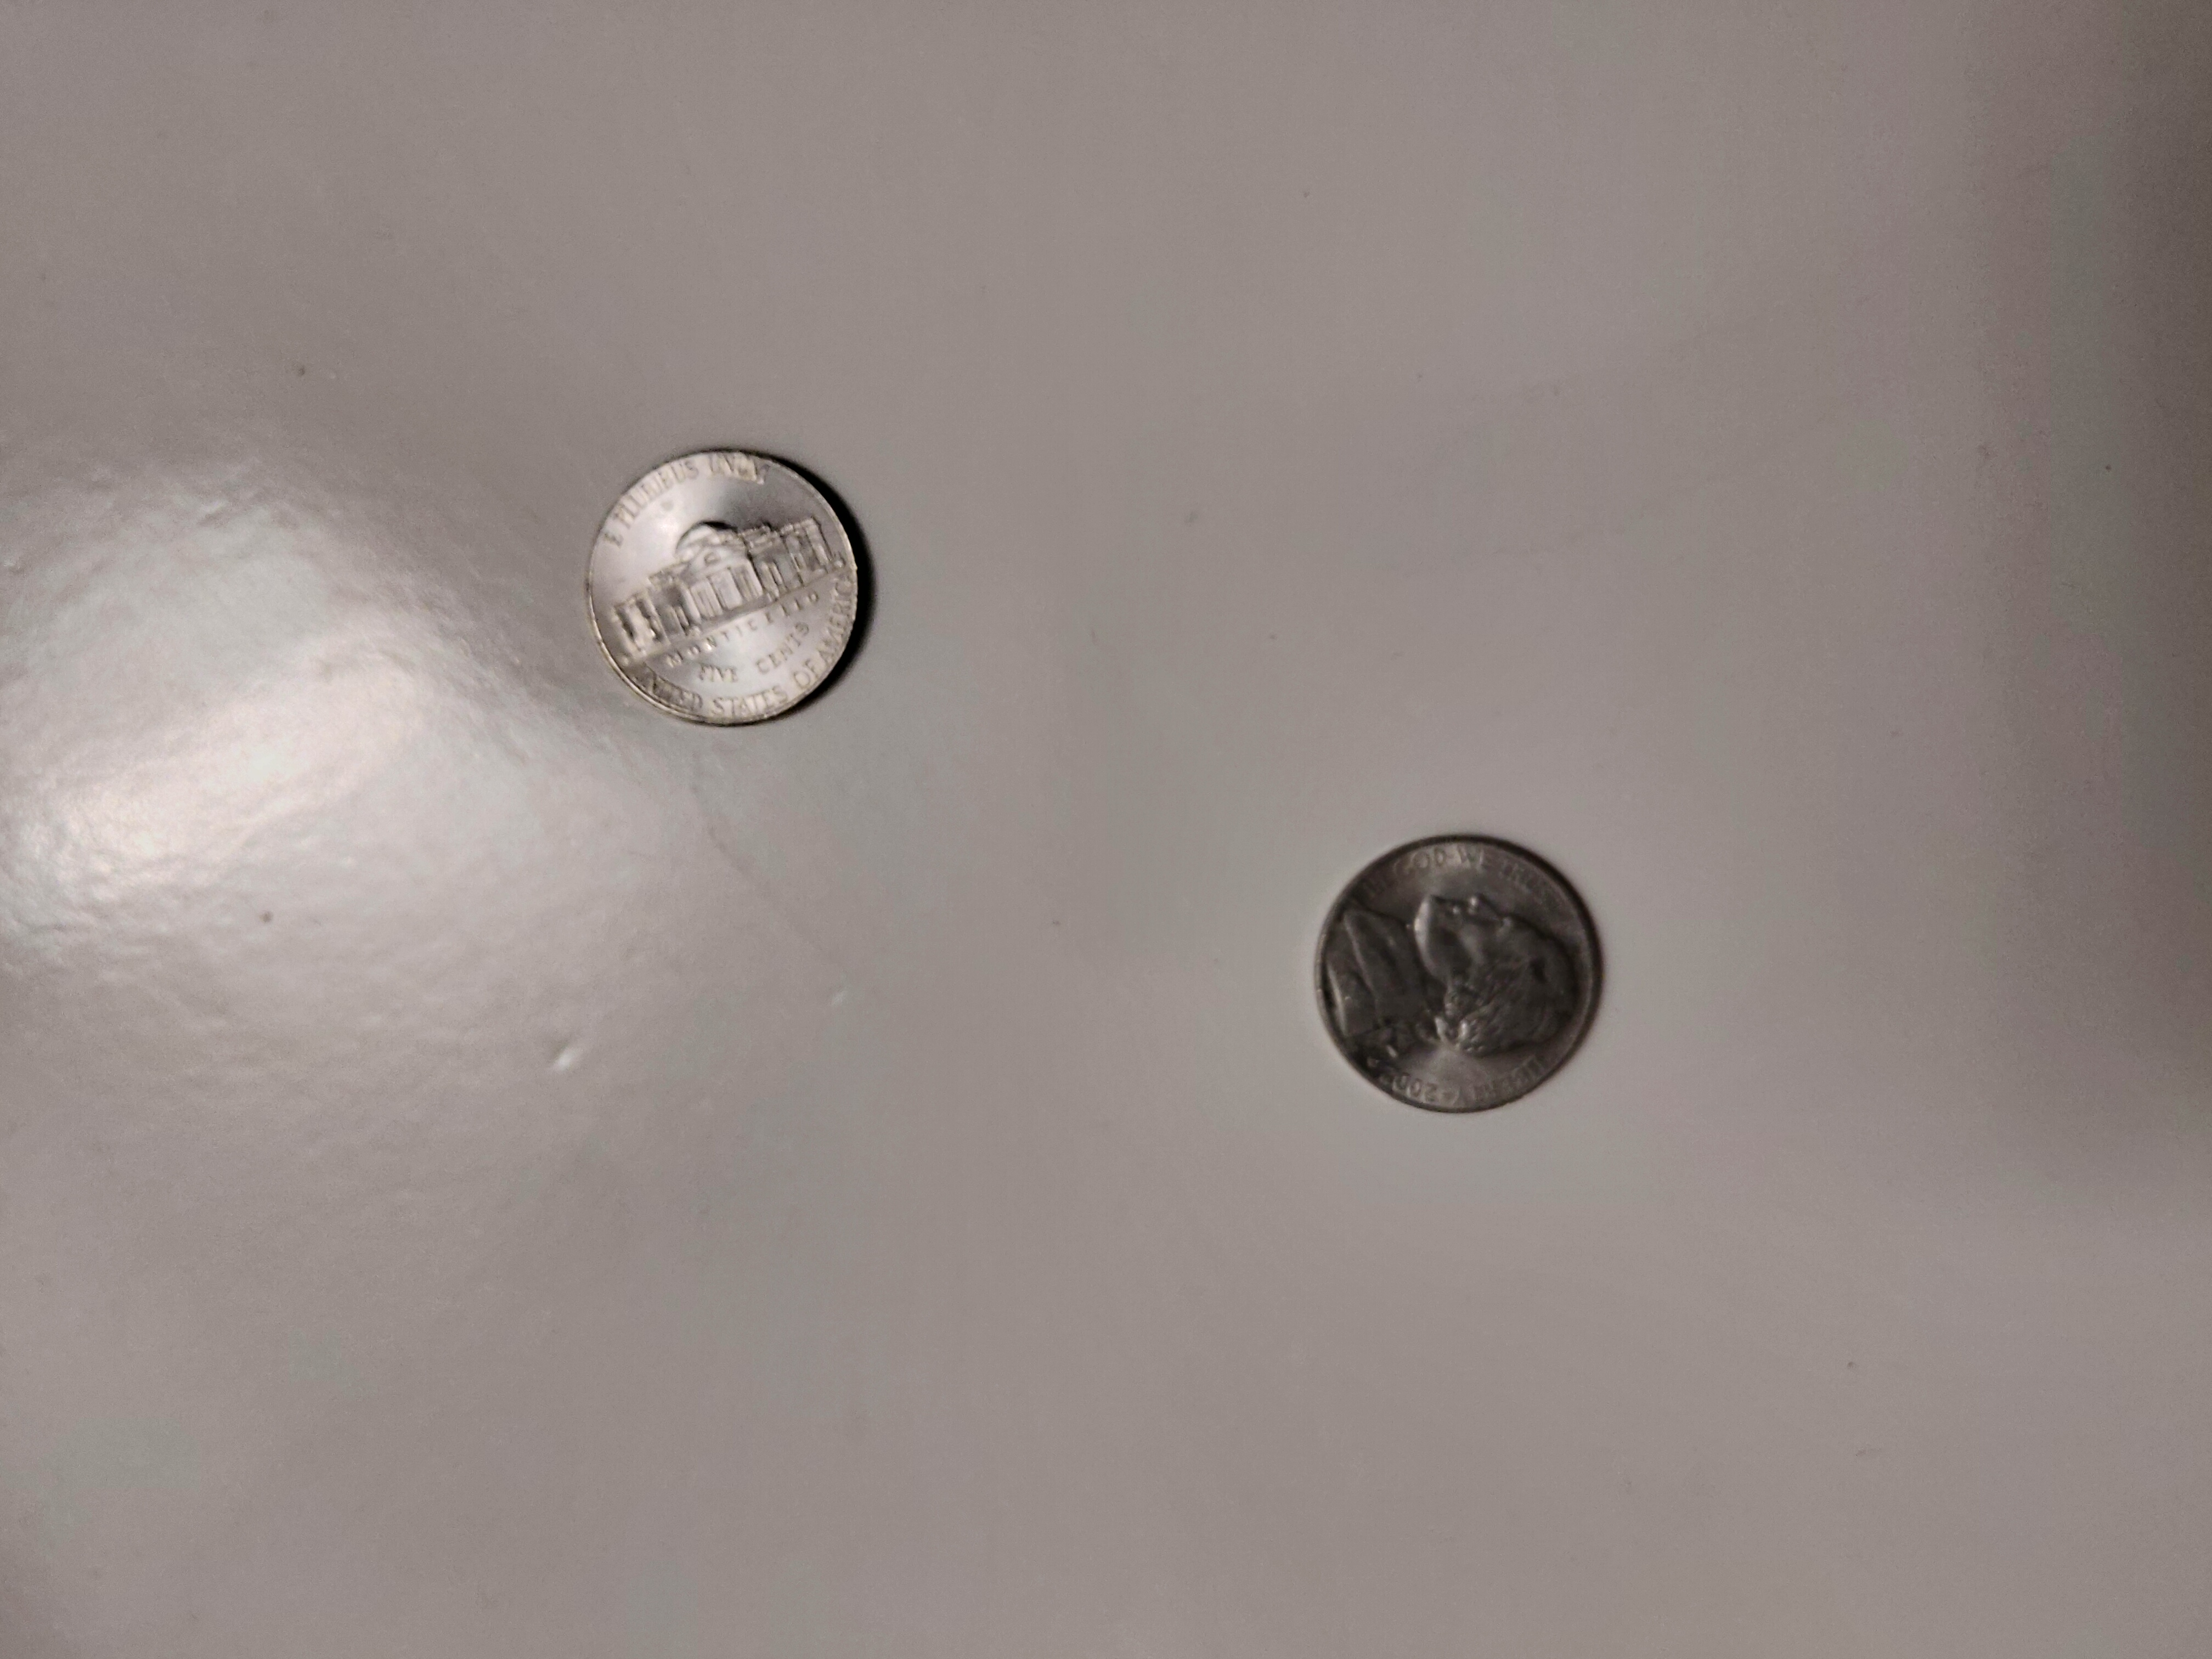Nickel: (1310, 833, 1604, 1114), (583, 443, 866, 727)
